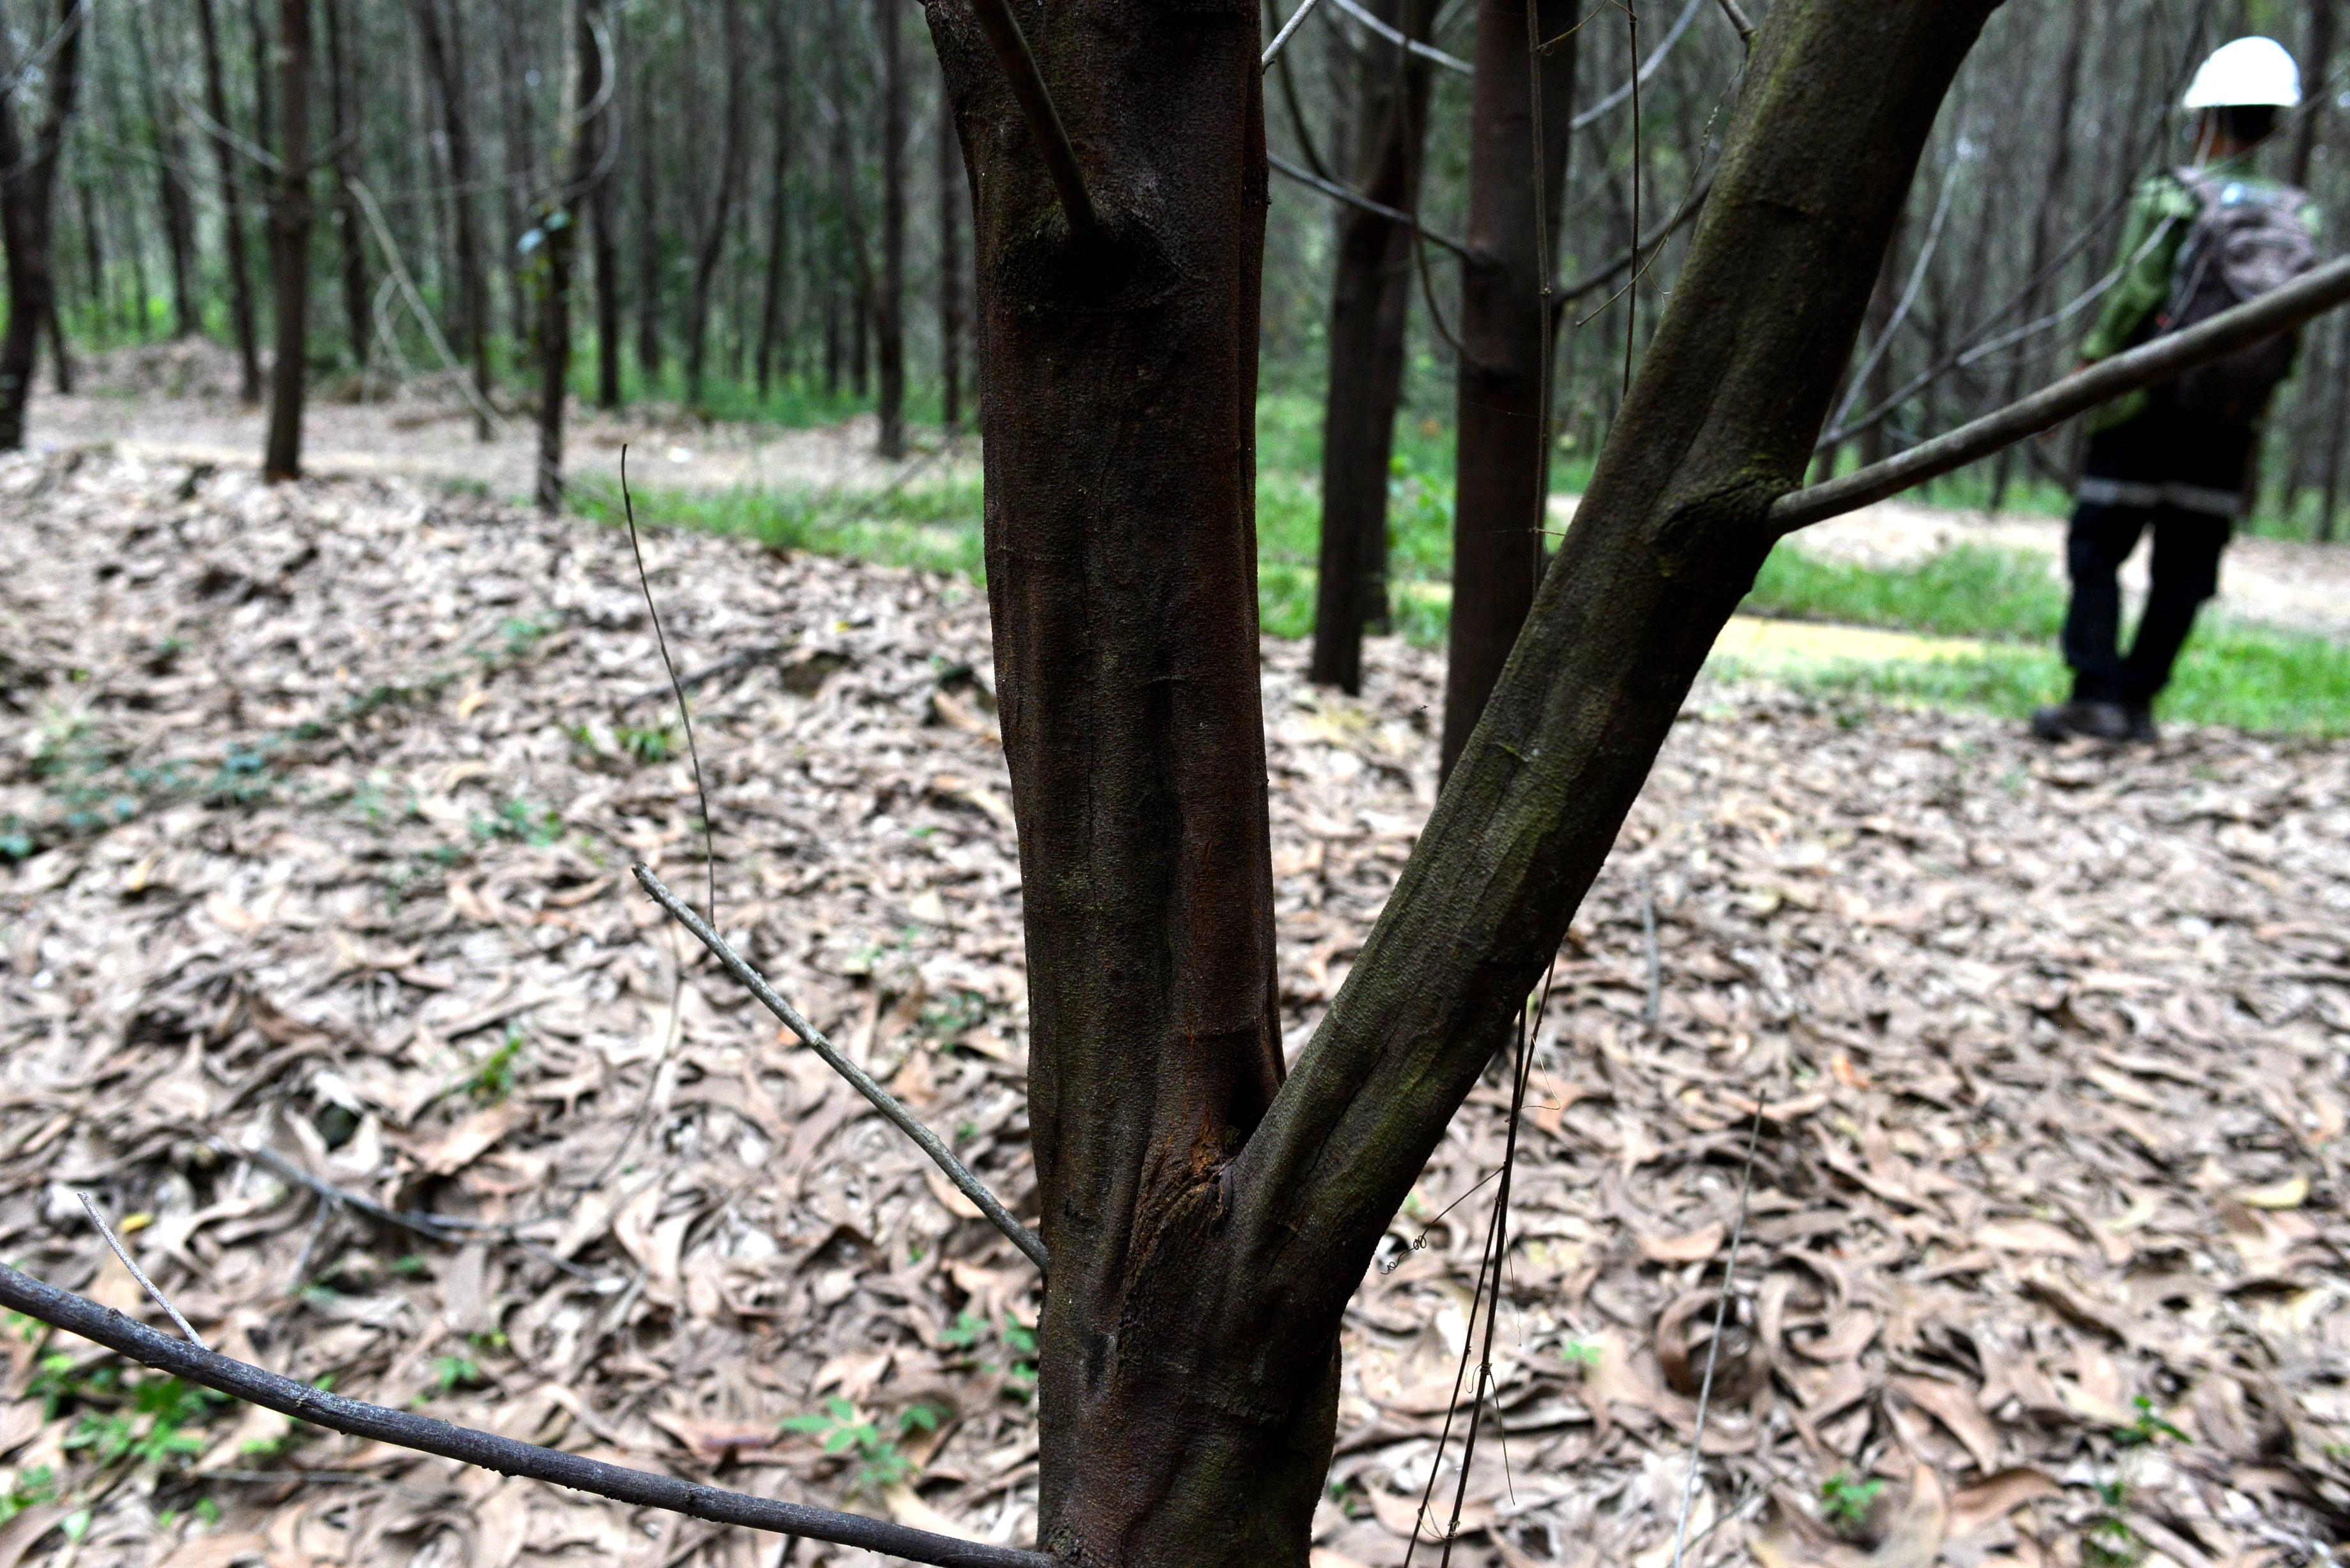Stem Deformation: (943, 0, 1351, 1568)
